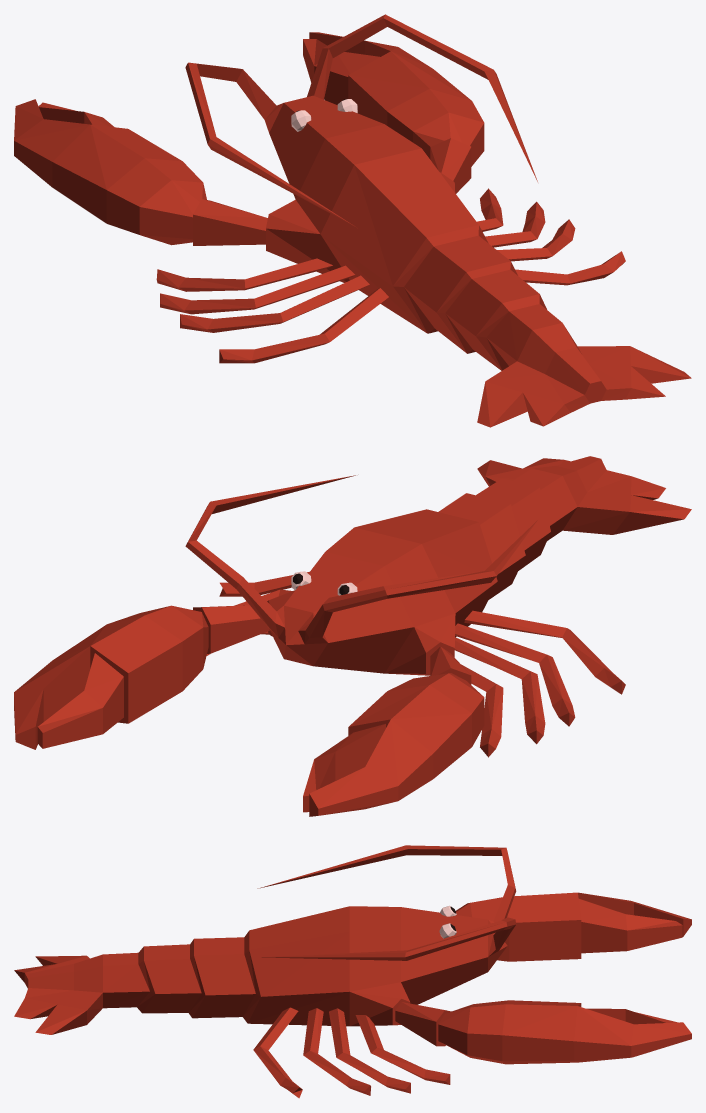
The model's file is crayfish.glb.
The picture shows the model from 3 angles, top to bottom: view 1: azimuth 30°, elevation 25°; view 2: azimuth 150°, elevation 25°; view 3: azimuth 270°, elevation 25°; orthographic projection. The views are drawn at different scales.
Parts seen in each view (by area): view 1: Crayfish; view 2: Crayfish; view 3: Crayfish.
Boxes of the visible parts, <box> form: Crayfish: <box>14,14,691,427</box>; Crayfish: <box>14,456,691,816</box>; Crayfish: <box>14,845,691,1098</box>.
Bounding box in the file's own units: 45.62 × 19.26 × 85.98.
1 material, 1 textured.
